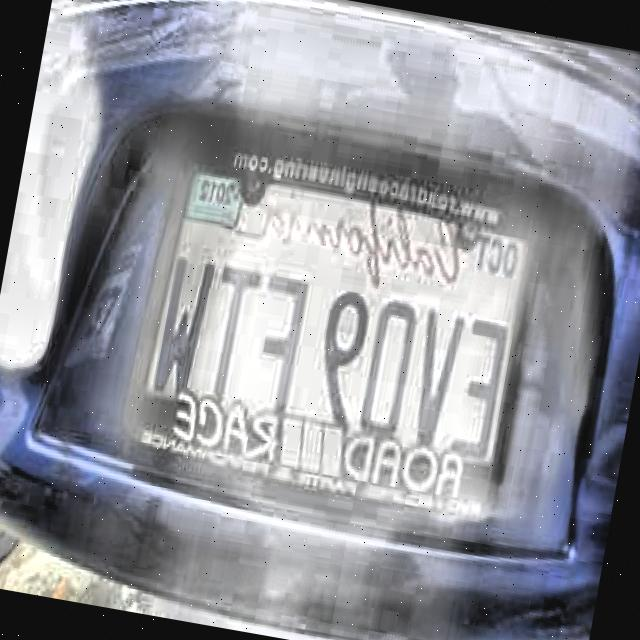license_plate: (124, 158, 533, 516)
